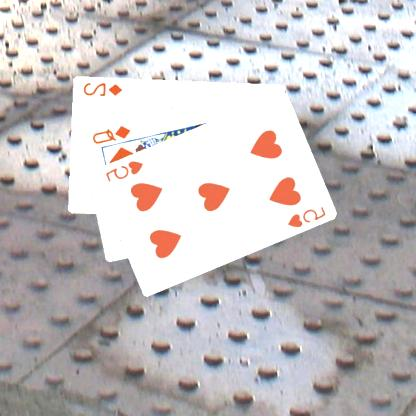2D: (82, 79, 125, 97)
5H: (104, 157, 146, 184), (286, 203, 328, 229)
QD: (91, 122, 133, 145)
